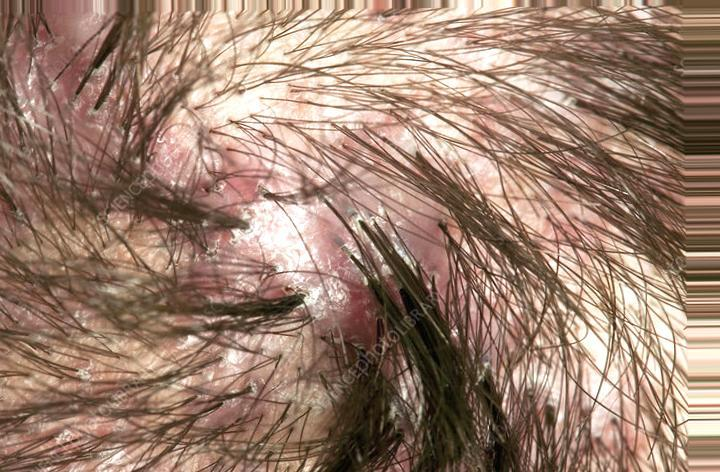Folliculitis: (204, 34, 511, 334)
